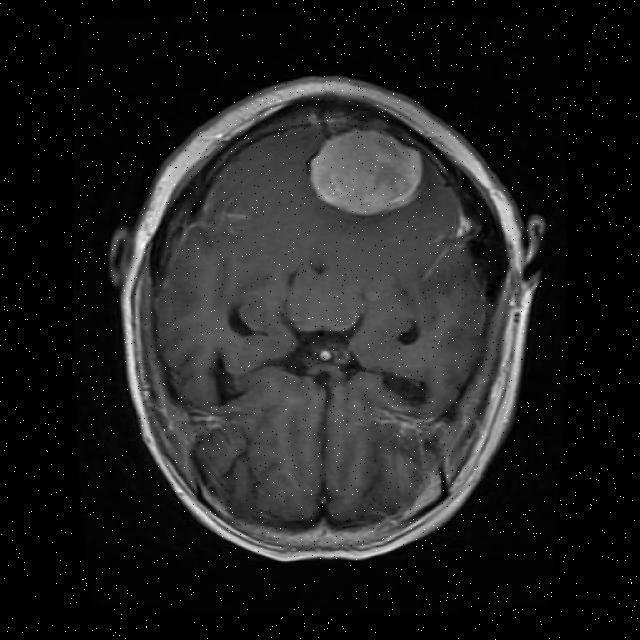Meningioma: (310, 129, 422, 215)
